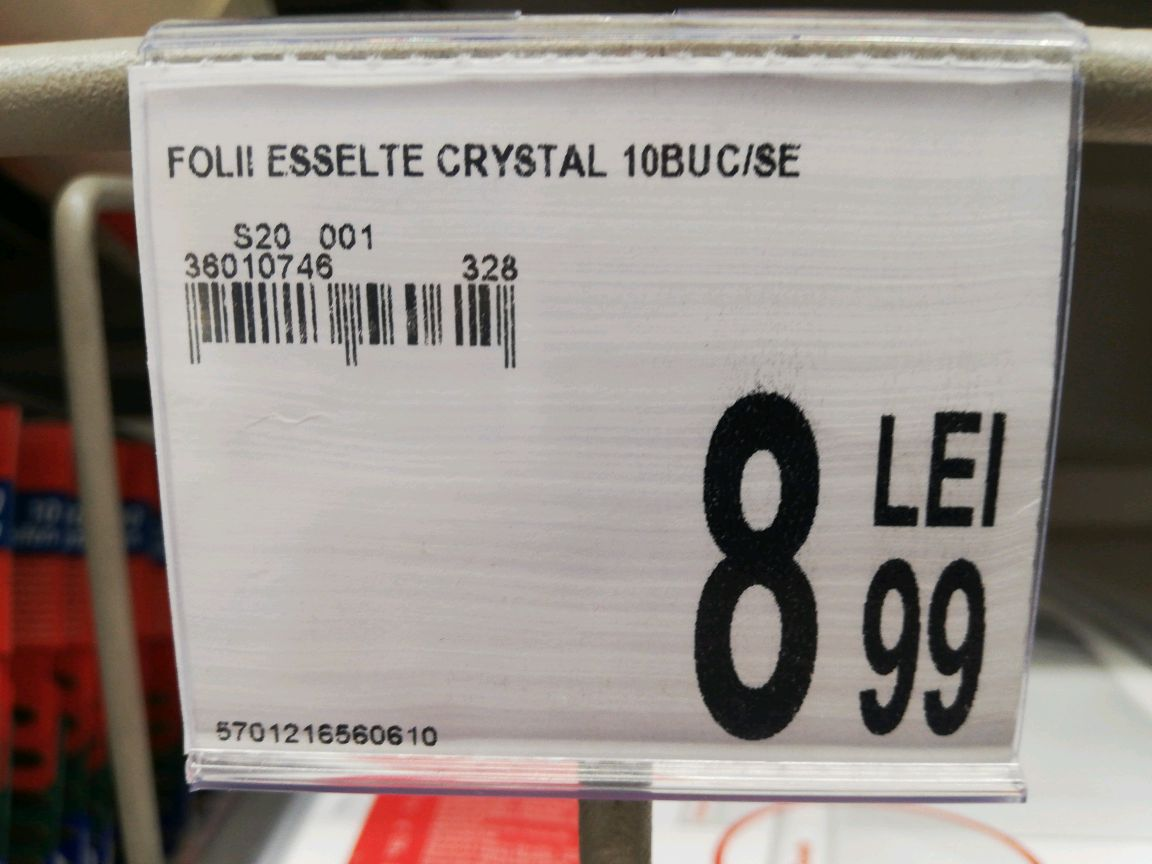price_bani: (840, 545, 1007, 760)
price_lei: (680, 381, 829, 756)
price_tag: (118, 47, 1096, 812)
product_id: (198, 708, 448, 758)
product_name: (158, 117, 827, 197)
